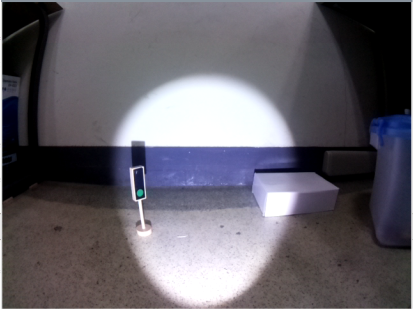Green: (127, 165, 149, 205)
